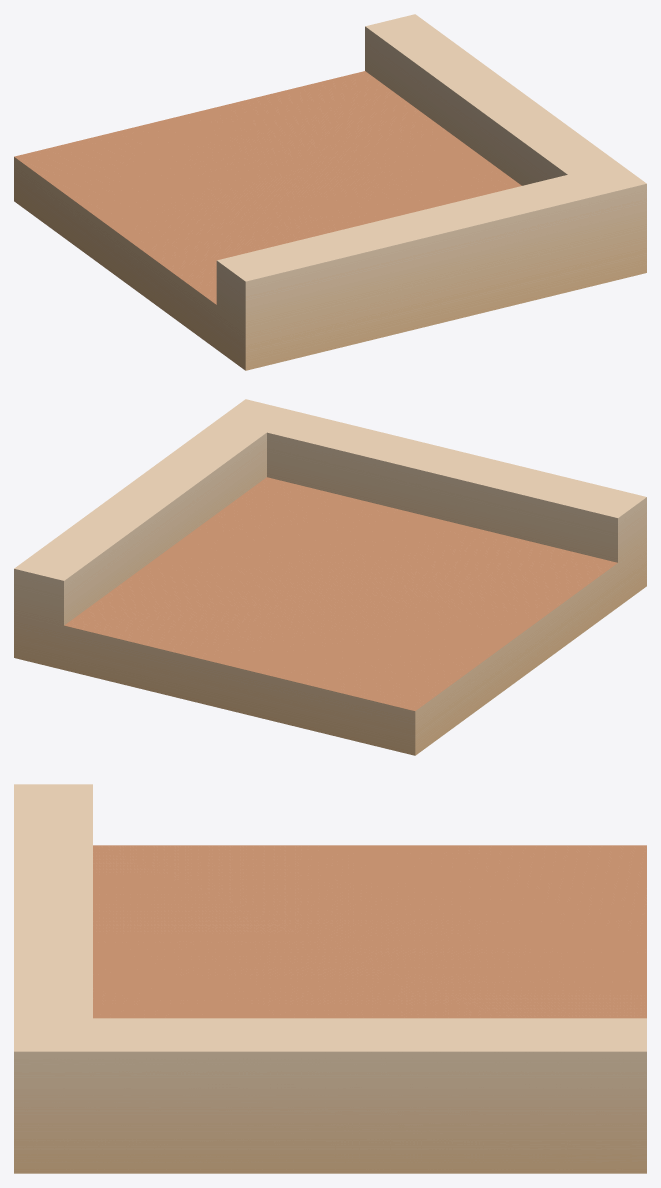
File: kp_mdl_roof_flat_border_corner.glb
3 views of the same model, one above another, from view 1: azimuth 30°, elevation 25°; view 2: azimuth 150°, elevation 25°; view 3: azimuth 270°, elevation 25° (orthographic). The views are drawn at different scales.
Visible parts, largest first — view 1: roof-flat-border-corner; view 2: roof-flat-border-corner; view 3: roof-flat-border-corner.
Part boxes in pixels (box(x1,y1,x2,y2)): roof-flat-border-corner: box(14, 14, 646, 370); roof-flat-border-corner: box(14, 399, 646, 755); roof-flat-border-corner: box(14, 784, 646, 1173).
Bounding box in the file's own units: 1 × 0.2125 × 1.
1 material, 1 textured.
